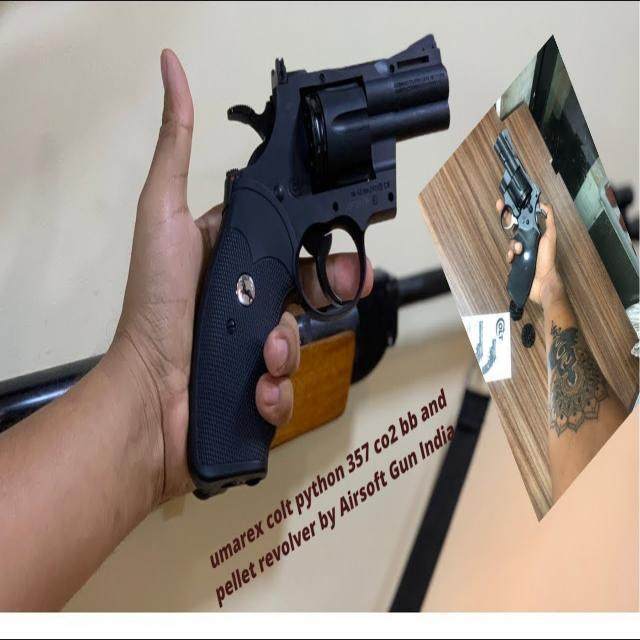handgun: (149, 24, 466, 509)
